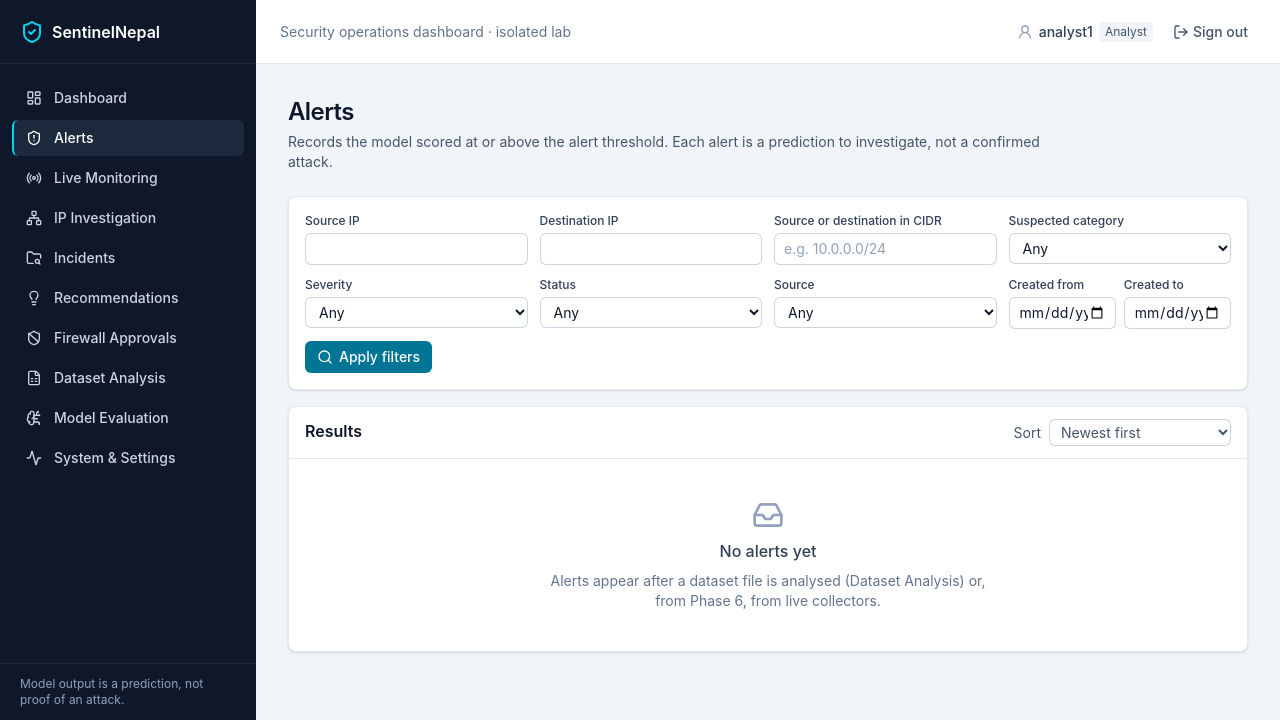
AlertsPage › sends filters to the API and keeps them in the URL
Check: the text "No alerts yet" is shown, box [720,539,816,563]
In the field labelled "Source IP": (416, 249) [305,233,528,265], type "192.0.2.10"
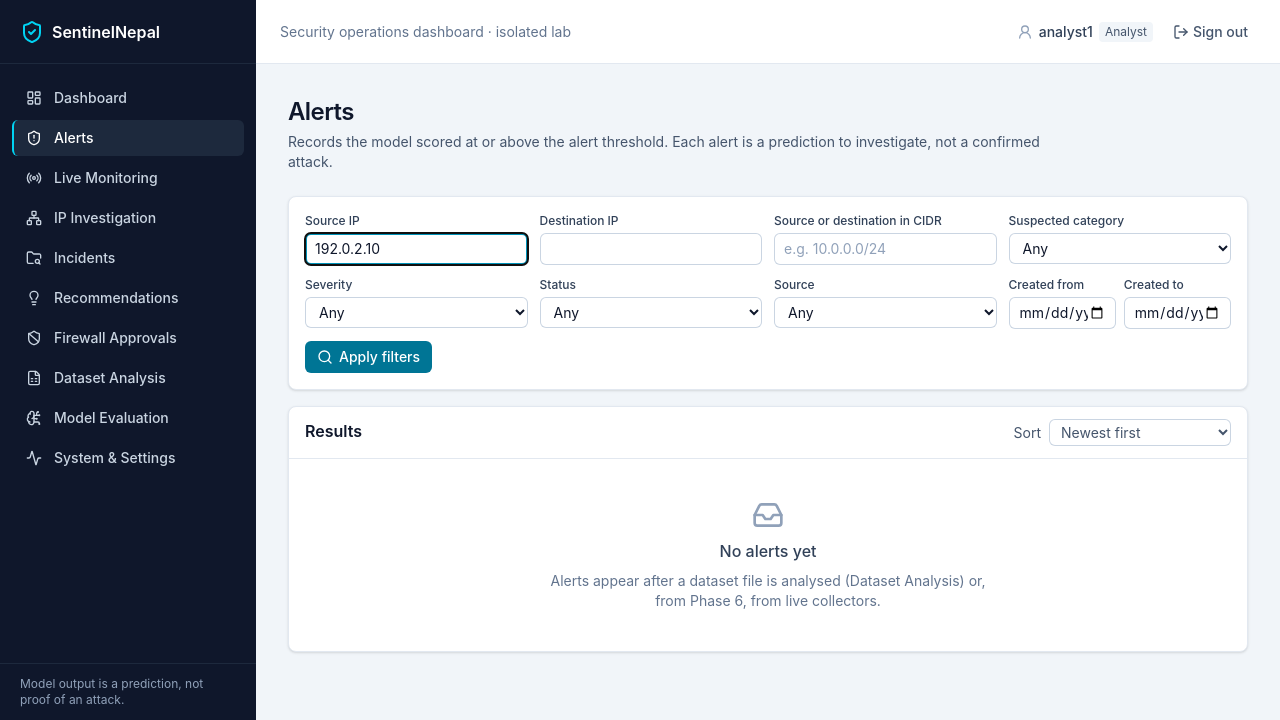
Select "High" in the dropdown labelled "Severity": (416, 312) [305,297,528,328]
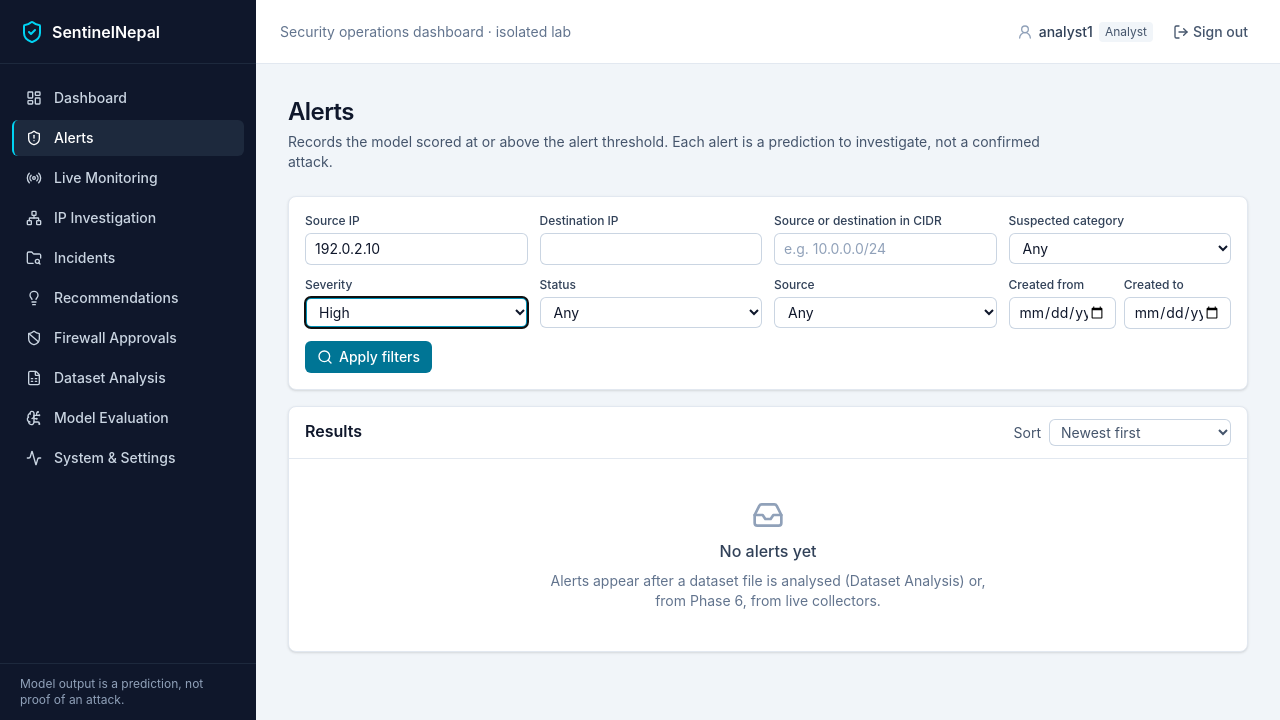
Select "DoS" in the dropdown labelled "Suspected category": (1120, 248) [1008,233,1231,264]
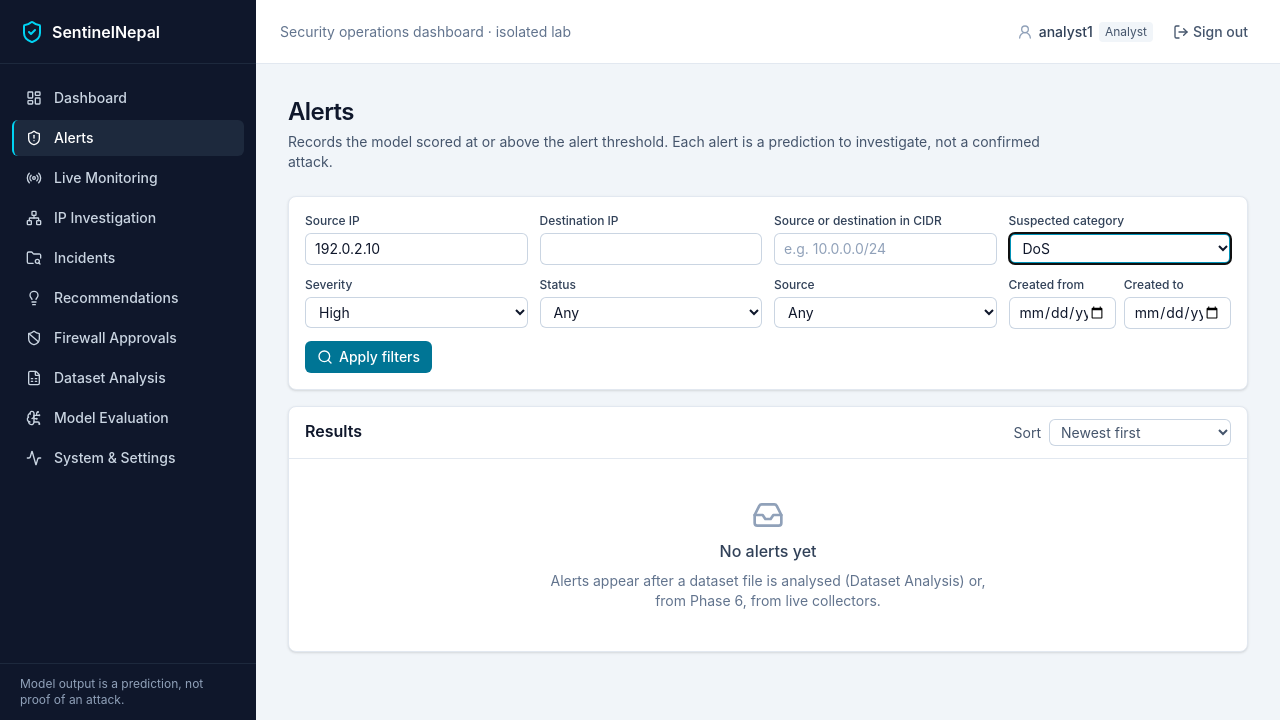
Click the button "Apply filters": (369, 357) [305,341,432,373]
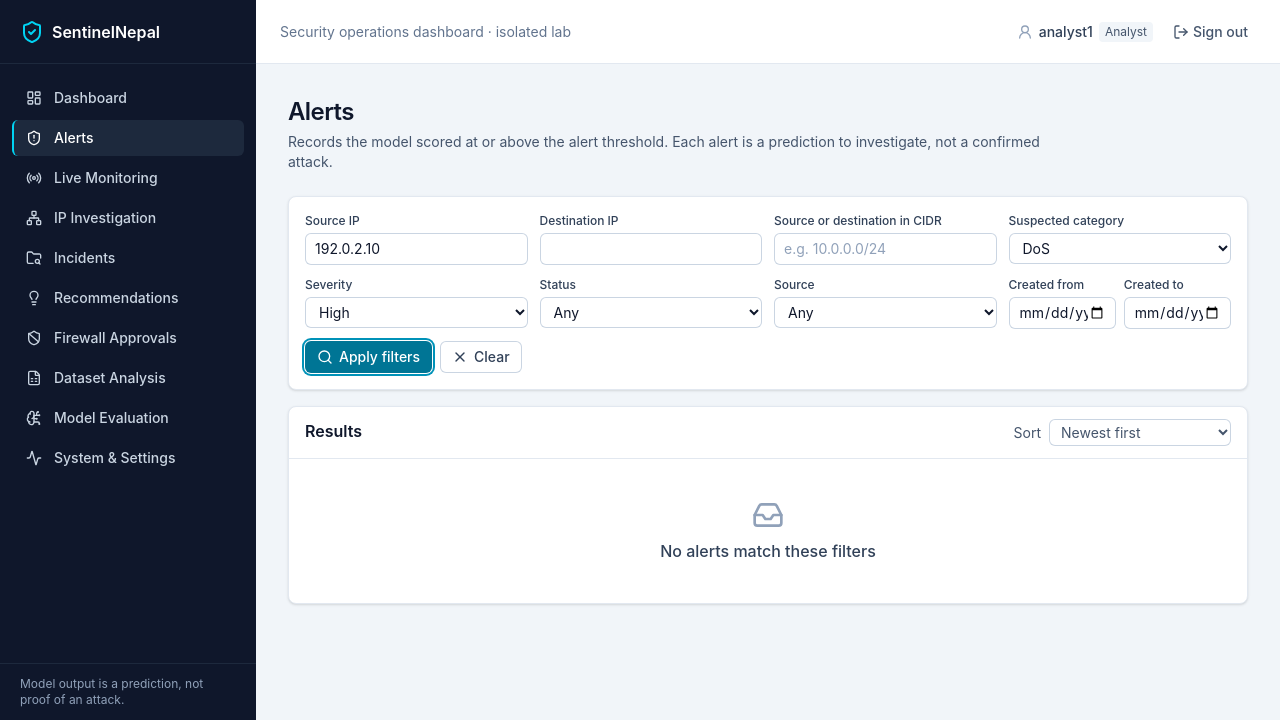
Check: the text "No alerts match these filters" is shown, box [660,539,876,563]
Click the button "Clear": (481, 357) [440,341,522,373]
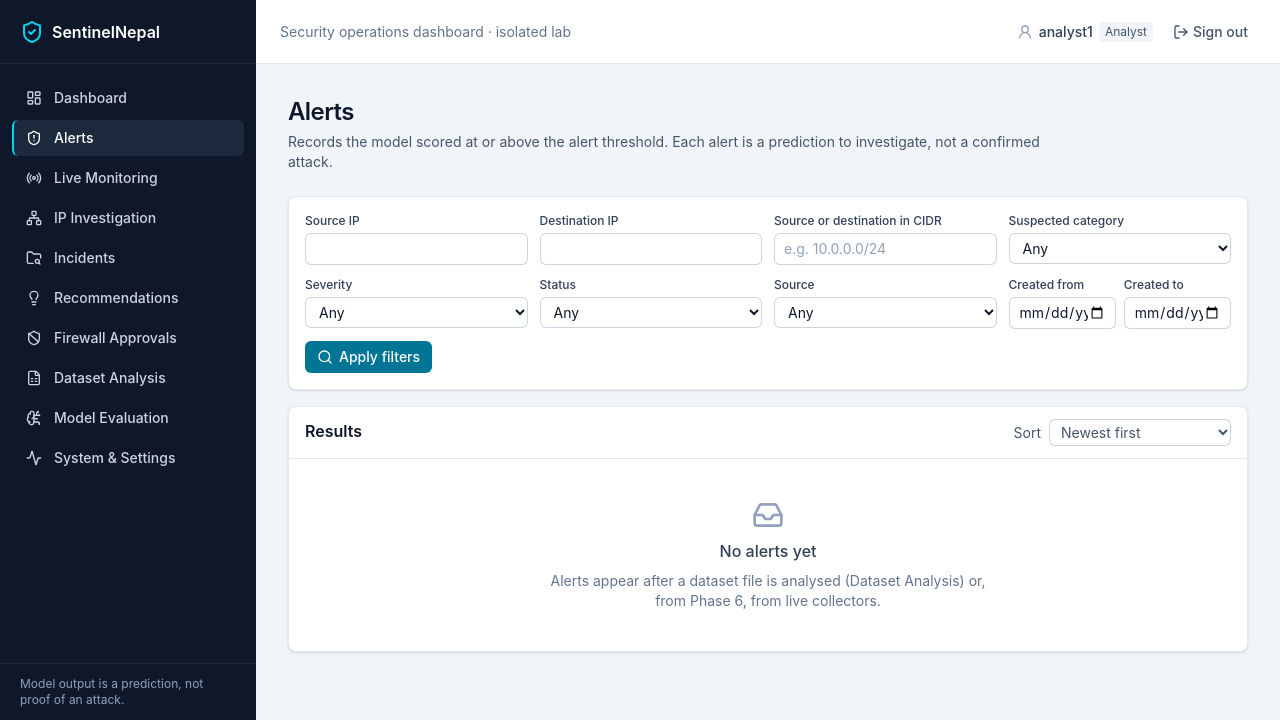
Check: the text "No alerts yet" is shown, box [720,539,816,563]
Check: the field labelled "Source IP" is empty, box [305,233,528,265]
